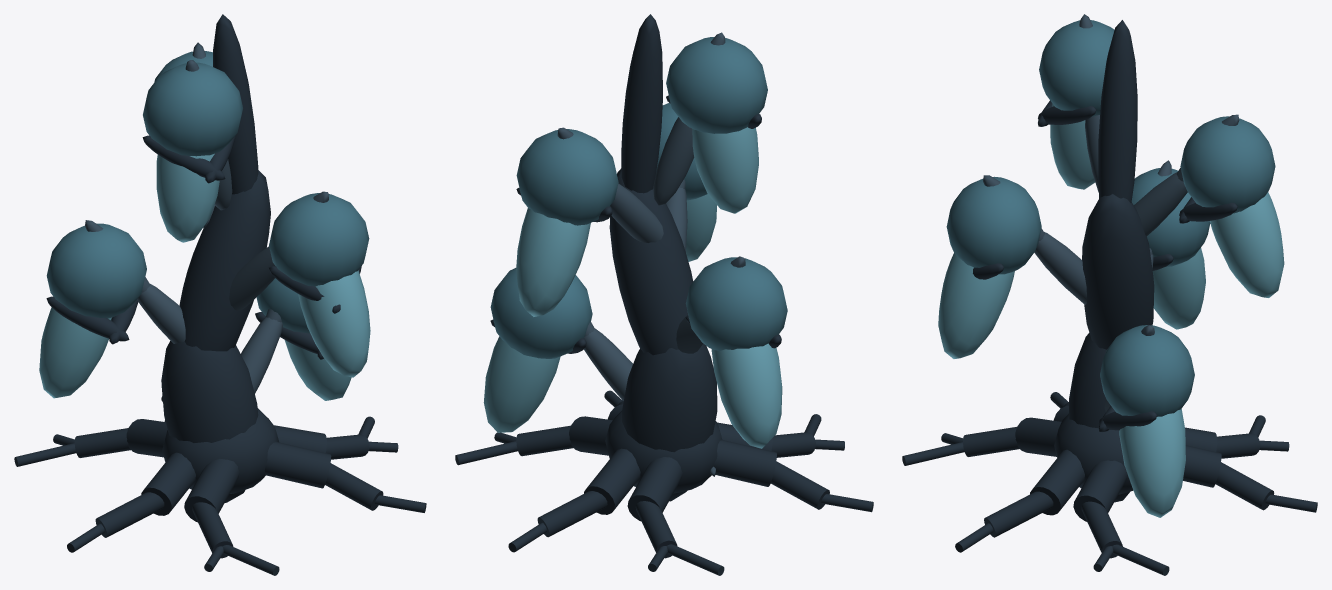
Rendered from CMU3DHiveHivePlasmaTreeXenoConstructionNode.glb.
3 views of the same model, side by side, from view 1: azimuth 30°, elevation 25°; view 2: azimuth 150°, elevation 25°; view 3: azimuth 270°, elevation 25° (orthographic).
Visible parts, largest first — view 1: plasma sac shoulder (×4), twisting nutrient trunk (×3), sinuous anchoring root (×13), hanging tapered plasma frond (×4), arched nutrient branch (×4), construction bud, nutrient cup calyx (×4); view 2: plasma sac shoulder (×5), twisting nutrient trunk (×3), hanging tapered plasma frond (×5), sinuous anchoring root (×12), arched nutrient branch (×5), construction bud; view 3: plasma sac shoulder (×5), hanging tapered plasma frond (×5), twisting nutrient trunk (×3), sinuous anchoring root (×13), arched nutrient branch (×3), construction bud, nutrient cup calyx (×3).
Boxes of the visible parts, <box> form: plasma sac shoulder (×4): <box>46,62,369,333</box>; twisting nutrient trunk (×3): <box>161,14,270,502</box>; sinuous anchoring root (×13): <box>14,419,426,575</box>; hanging tapered plasma frond (×4): <box>39,153,370,400</box>; arched nutrient branch (×4): <box>137,159,282,393</box>; construction bud: <box>162,408,278,493</box>; nutrient cup calyx (×4): <box>46,135,324,353</box>; plasma sac shoulder (×5): <box>490,37,787,358</box>; twisting nutrient trunk (×3): <box>609,14,717,501</box>; hanging tapered plasma frond (×5): <box>483,127,782,448</box>; sinuous anchoring root (×12): <box>455,416,873,575</box>; arched nutrient branch (×5): <box>583,117,703,400</box>; construction bud: <box>605,411,722,493</box>; plasma sac shoulder (×5): <box>946,20,1275,416</box>; hanging tapered plasma frond (×5): <box>938,103,1284,517</box>; twisting nutrient trunk (×3): <box>1069,20,1154,502</box>; sinuous anchoring root (×13): <box>902,417,1317,575</box>; arched nutrient branch (×3): <box>1034,115,1187,304</box>; construction bud: <box>1054,413,1133,494</box>; nutrient cup calyx (×3): <box>1038,106,1237,430</box>.
Bounding box in the file's own units: 0.9671 × 1.24 × 0.9609.
